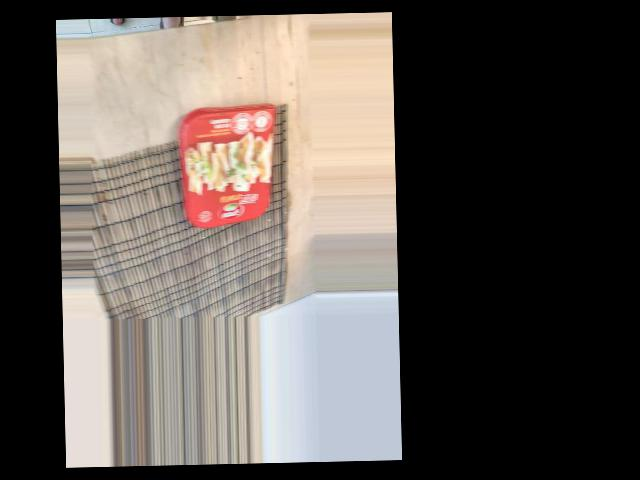cheese: (93, 133, 227, 225)
